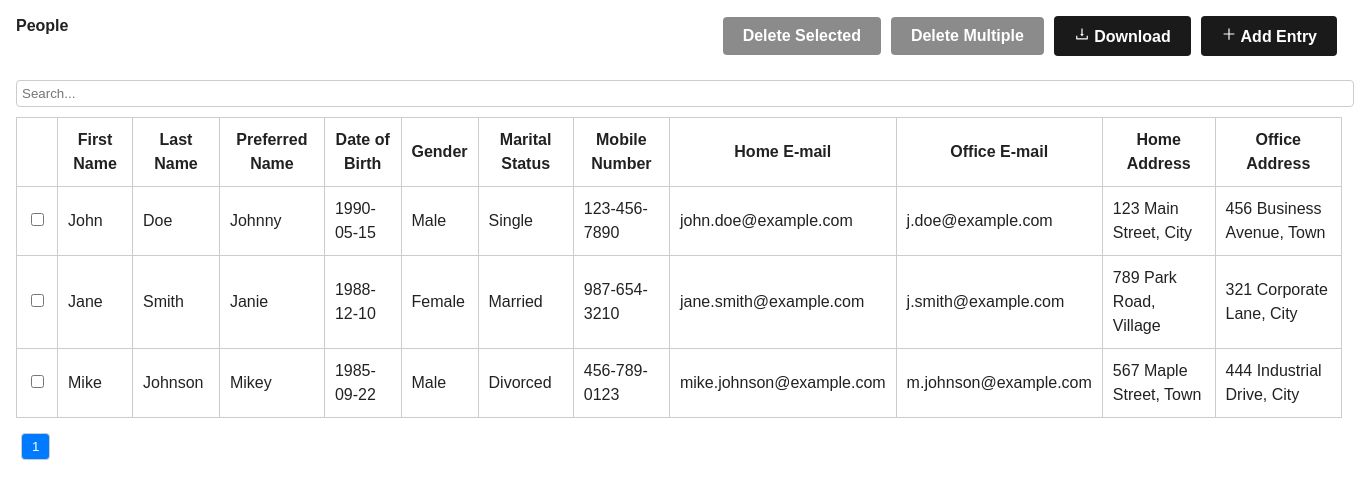
it: renders table with data
The image size is (1362, 477).
Check: the column heading "First Name" is shown, box [58,117,132,186]
Check: the column heading "Last Name" is shown, box [132,117,219,186]
Type "John" into the field with placeholder "Search..." at (685, 93), box [16,80,1354,106]
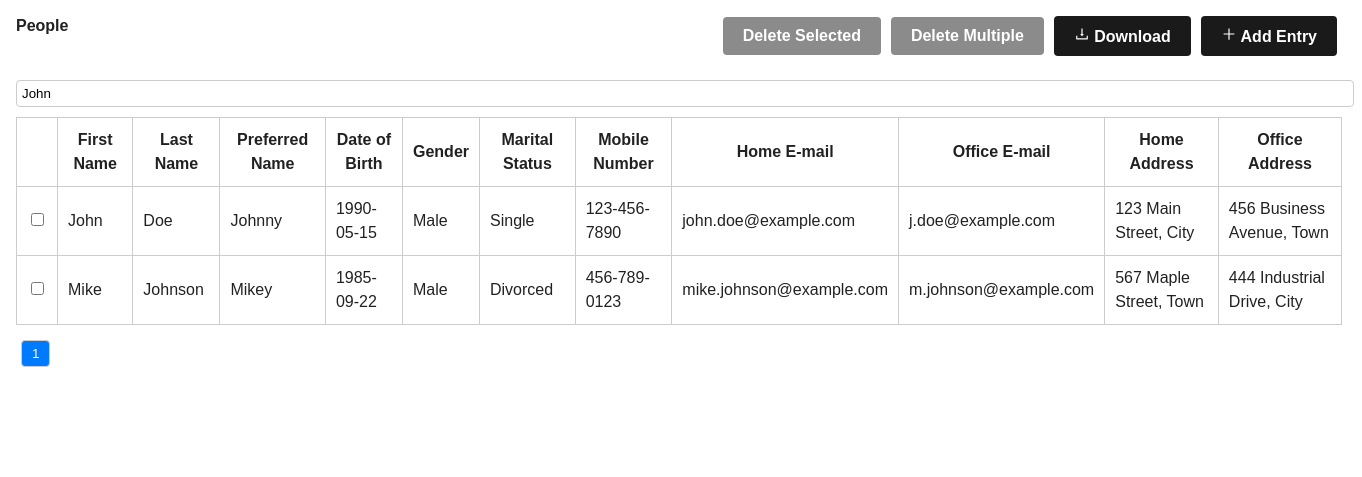
Check: the text "John" is shown, box [58,186,133,255]
Check: the text "Jane Smith" is gone
